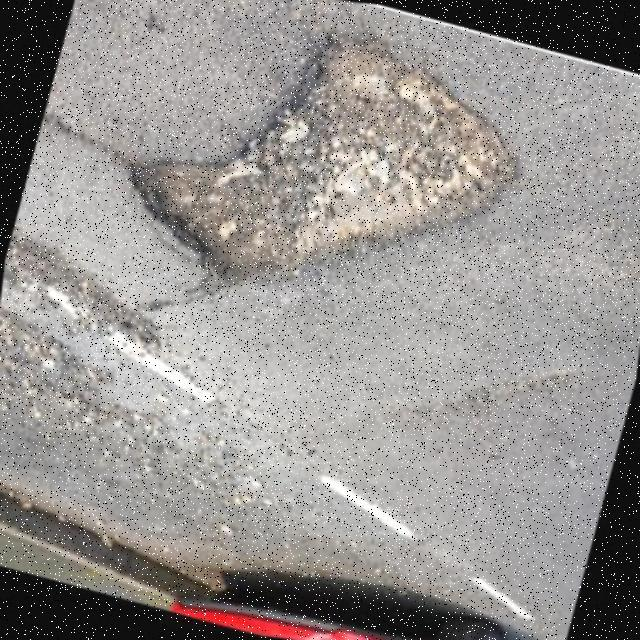Pothole: (129, 36, 517, 282)
